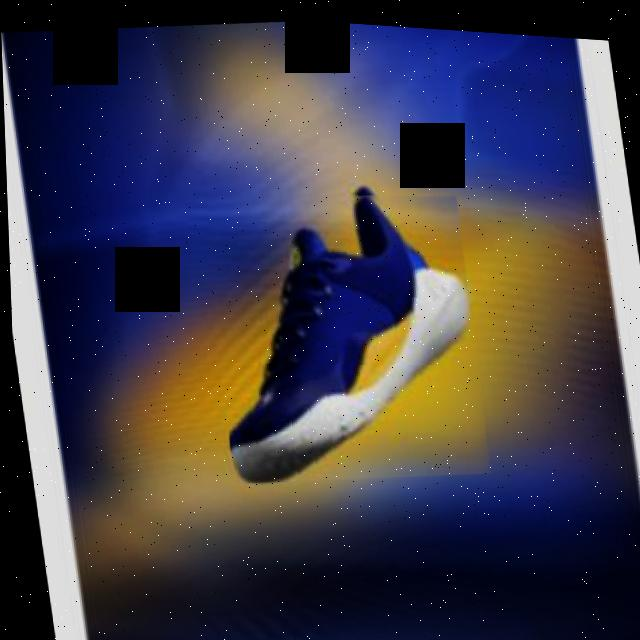shoe: (192, 162, 492, 494)
